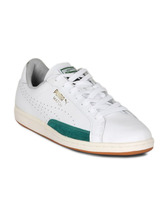shoes: (10, 59, 161, 161)
